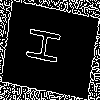H: (25, 24, 70, 68)
